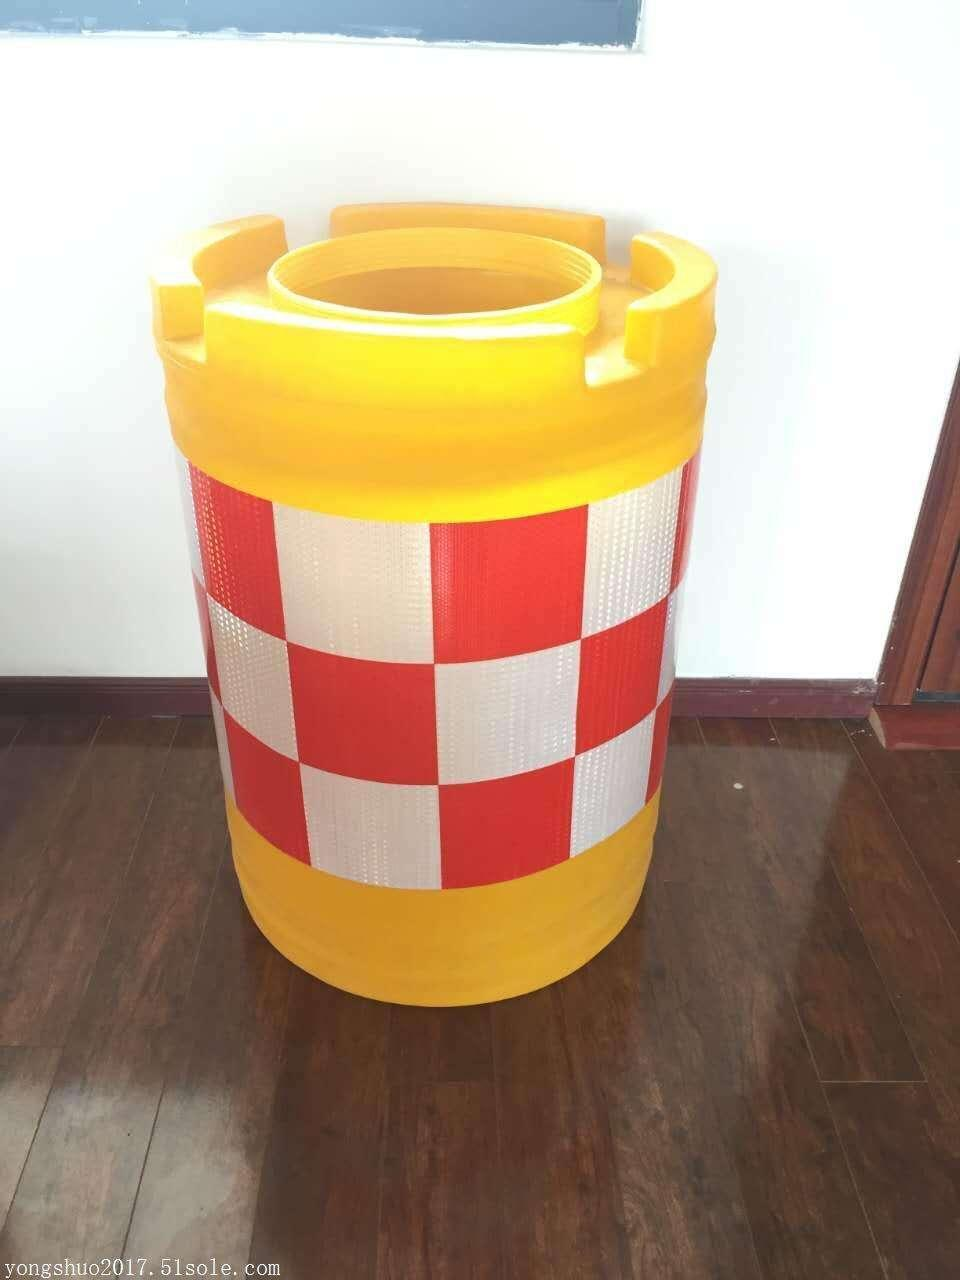sign: (130, 174, 715, 1009)
